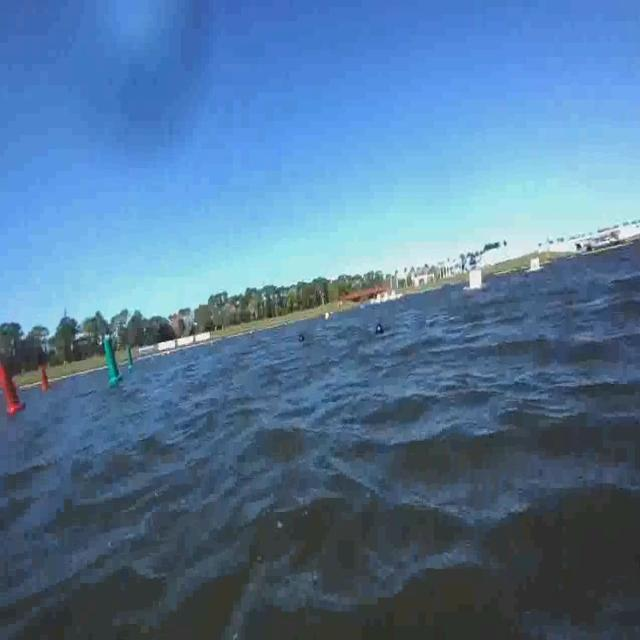green-column-buoy: (102, 336, 124, 386), (126, 343, 136, 370)
red-column-buoy: (0, 361, 27, 416), (39, 359, 51, 391)
